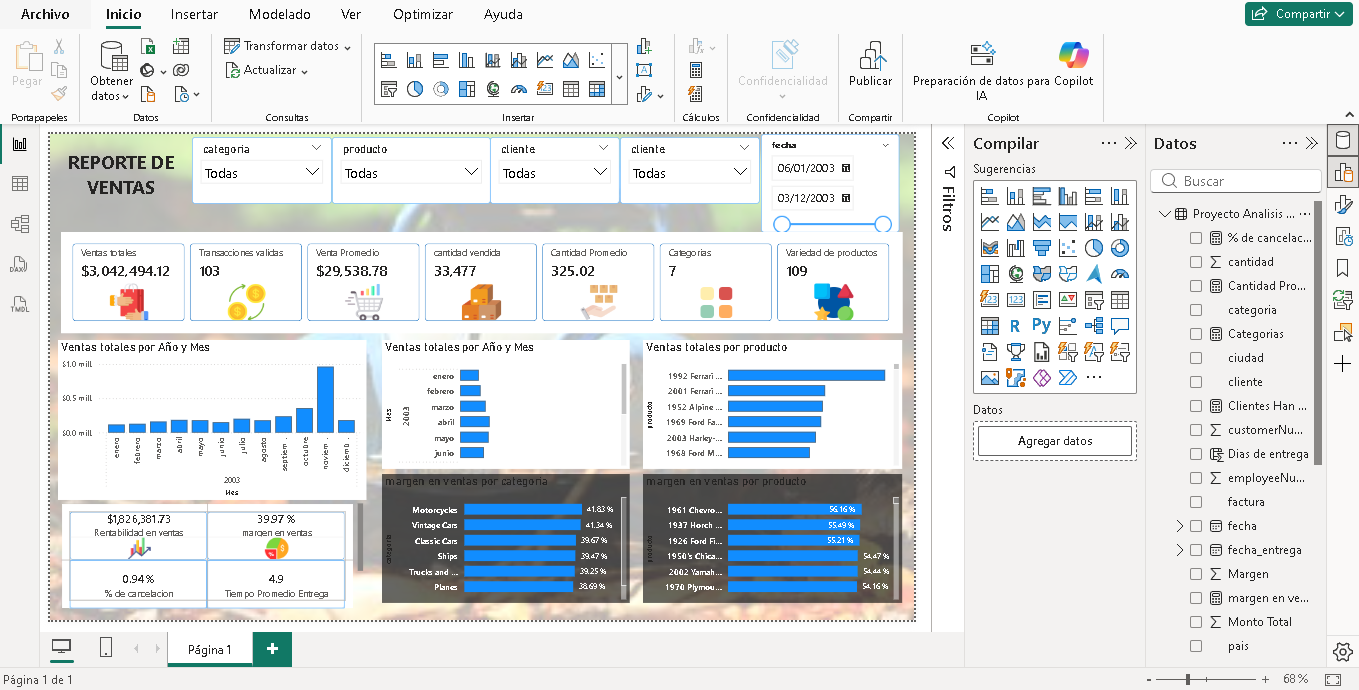

The dashboard page shown, as its layout file describes it:
{"tool":"powerbi","page":{"name":"Página 1","canvas":[1280,720],"ordinal":0},"visuals":[{"type":"textbox","box":[11.5,15.8,187.2,99.4],"z":0},{"type":"slicer","fields":{"Values":["Proyecto Analisis de datos.categoria"]},"box":[210.2,4.6,207.4,99.4],"z":1000},{"type":"slicer","fields":{"Values":["Proyecto Analisis de datos.producto"]},"box":[417.6,4.6,234.7,99.4],"z":2000},{"type":"slicer","fields":{"Values":["Proyecto Analisis de datos.cliente"]},"box":[652.3,4.6,191.5,99.4],"z":3000},{"type":"slicer","fields":{"Values":["Proyecto Analisis de datos.cliente"]},"box":[843.8,4.6,207.4,99.4],"z":4000},{"type":"slicer","fields":{"Values":["Proyecto Analisis de datos.fecha"]},"box":[1053.1,0,205.4,145.6],"z":5000},{"type":"cardVisual","fields":{"Data":["Proyecto Analisis de datos.Ventas totales","Proyecto Analisis de datos.Transacciones validas","Proyecto Analisis de datos.Venta Promedio","Proyecto Analisis de datos.cantidad vendida","Proyecto Analisis de datos.Cantidad Promedio","Proyecto Analisis de datos.Categorias","Proyecto Analisis de datos.Variedad de productos"]},"box":[15.8,145.4,1247,149.8],"z":6000},{"type":"clusteredColumnChart","fields":{"Category":["Proyecto Analisis de datos.fecha.Variación.Jerarquía de fechas.Año","Proyecto Analisis de datos.fecha.Variación.Jerarquía de fechas.Mes"],"Y":["Proyecto Analisis de datos.Ventas totales"]},"box":[11.4,305.7,457.1,237.1],"z":7000},{"type":"clusteredBarChart","fields":{"Category":["Proyecto Analisis de datos.fecha.Variación.Jerarquía de fechas.Año","Proyecto Analisis de datos.fecha.Variación.Jerarquía de fechas.Mes"],"Y":["Proyecto Analisis de datos.Ventas totales"]},"box":[491.4,305.7,367.1,191.4],"z":8000},{"type":"clusteredBarChart","fields":{"Category":["Proyecto Analisis de datos.producto"],"Y":["Proyecto Analisis de datos.Ventas totales"]},"box":[878.6,305.7,384.3,191.4],"z":9000},{"type":"clusteredBarChart","fields":{"Category":["Proyecto Analisis de datos.producto"],"Y":["Proyecto Analisis de datos.margen en ventas"]},"box":[878.6,504.3,384.3,191.4],"z":10000},{"type":"clusteredBarChart","fields":{"Category":["Proyecto Analisis de datos.categoria"],"Y":["Proyecto Analisis de datos.margen en ventas"]},"box":[491.4,504.3,367.1,191.4],"z":11000},{"type":"cardVisual","fields":{"Data":["Proyecto Analisis de datos.Rentabilidad en ventas","Proyecto Analisis de datos.margen en ventas","Proyecto Analisis de datos.% de cancelacion","Proyecto Analisis de datos.Tiempo Promedio Entrega","Proyecto Analisis de datos.Clientes Han Comprado","Proyecto Analisis de datos.paises"]},"box":[11.4,542.9,457.1,167.1],"z":11001}]}

Visuals, with their boxes on the page's 1280x720 design canvas (x1, y1, x2, y2). These are canvas units, not pixel positions in the 1359x690 screenshot, which may show the page scaled, cropped or inside an application window:
textbox: crop(12, 16, 199, 115)
slicer - Proyecto Analisis de datos.categoria: crop(210, 5, 418, 104)
slicer - Proyecto Analisis de datos.producto: crop(418, 5, 652, 104)
slicer - Proyecto Analisis de datos.cliente: crop(652, 5, 844, 104)
slicer - Proyecto Analisis de datos.cliente: crop(844, 5, 1051, 104)
slicer - Proyecto Analisis de datos.fecha: crop(1053, 0, 1258, 146)
cardVisual - Proyecto Analisis de datos.Ventas totales x Proyecto Analisis de datos.Transacciones validas: crop(16, 145, 1263, 295)
clusteredColumnChart - Proyecto Analisis de datos.fecha.Variación.Jerarquía de fechas.Año x Proyecto Analisis de datos.fecha.Variación.Jerarquía de fechas.Mes: crop(11, 306, 468, 543)
clusteredBarChart - Proyecto Analisis de datos.fecha.Variación.Jerarquía de fechas.Año x Proyecto Analisis de datos.fecha.Variación.Jerarquía de fechas.Mes: crop(491, 306, 858, 497)
clusteredBarChart - Proyecto Analisis de datos.producto x Proyecto Analisis de datos.Ventas totales: crop(879, 306, 1263, 497)
clusteredBarChart - Proyecto Analisis de datos.producto x Proyecto Analisis de datos.margen en ventas: crop(879, 504, 1263, 696)
clusteredBarChart - Proyecto Analisis de datos.categoria x Proyecto Analisis de datos.margen en ventas: crop(491, 504, 858, 696)
cardVisual - Proyecto Analisis de datos.Rentabilidad en ventas x Proyecto Analisis de datos.margen en ventas: crop(11, 543, 468, 710)
